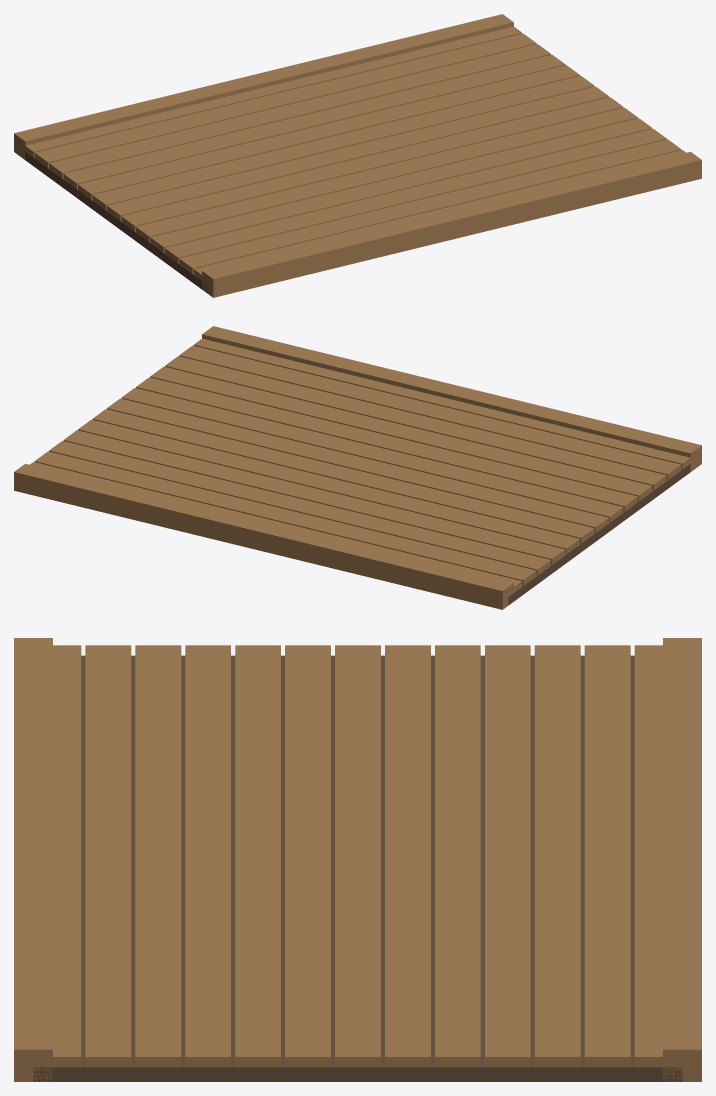
The model's file is pier_deck.glb.
3 views of the same model, one above another, from view 1: azimuth 30°, elevation 25°; view 2: azimuth 150°, elevation 25°; view 3: azimuth 270°, elevation 25° (orthographic). The views are drawn at different scales.
Visible parts, largest first — view 1: SM_ENV_pier_deck; view 2: SM_ENV_pier_deck; view 3: SM_ENV_pier_deck.
Boxes of the visible parts, x1,y1,x2,y2 form: SM_ENV_pier_deck: (14, 14, 701, 297); SM_ENV_pier_deck: (14, 326, 701, 609); SM_ENV_pier_deck: (14, 638, 701, 1081).
Bounding box in the file's own units: 6 × 0.22 × 4.24.
